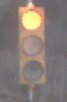Red: (12, 4, 45, 98)
